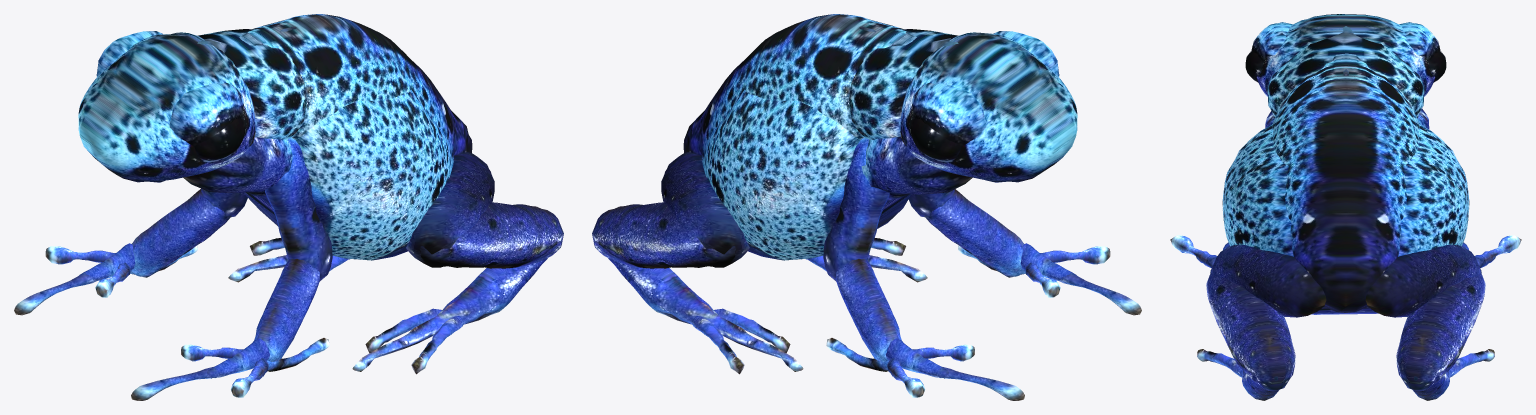
File: blue_dart_frog.glb
3 views of the same model, side by side, from view 1: azimuth 30°, elevation 25°; view 2: azimuth 150°, elevation 25°; view 3: azimuth 270°, elevation 25° (orthographic). The views are drawn at different scales.
Visible parts, largest first — view 1: Object_2; view 2: Object_2; view 3: Object_2.
Boxes of the visible parts, x1,y1,x2,y2 form: Object_2: [14, 14, 563, 400]; Object_2: [592, 14, 1141, 400]; Object_2: [1170, 14, 1521, 400].
Bounding box in the file's own units: 1.19 × 0.8049 × 0.9038.
Materials: 1 (1 with a texture image).
